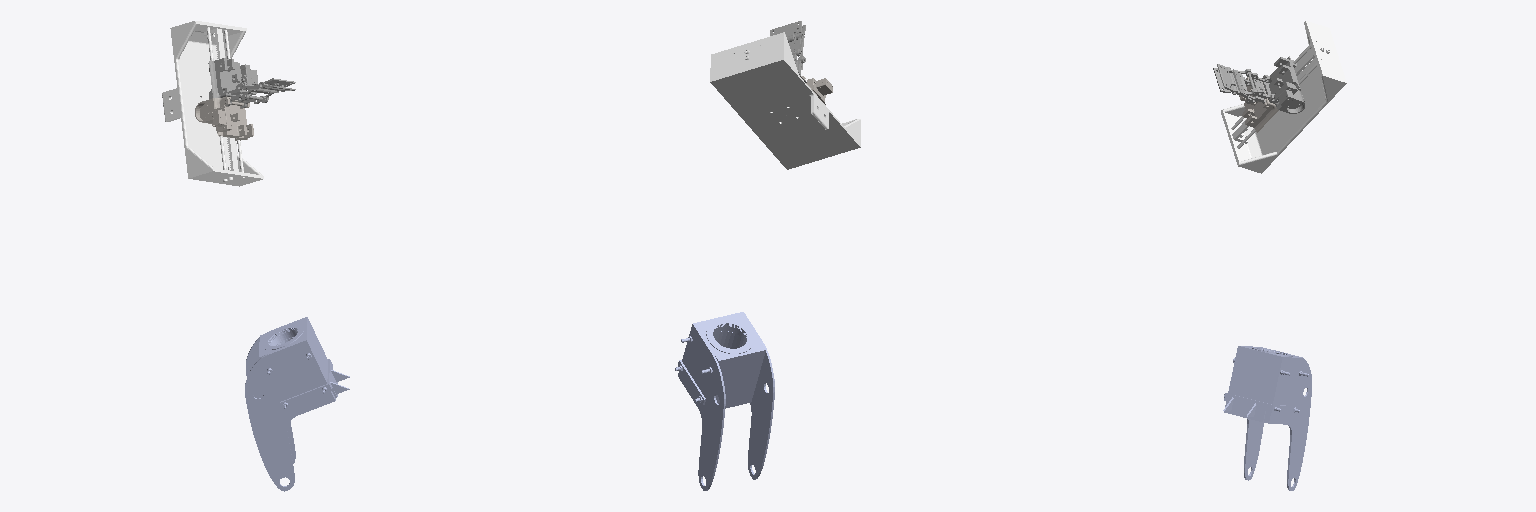
robot.urdf — arm_gripper_urdf:
<?xml version="1.0" encoding="utf-8"?>
<!-- This URDF was automatically created by SolidWorks to URDF Exporter! Originally created by Stephen Brawner (brawner@gmail.com) 
     Commit Version: 1.6.0-4-g7f85cfe  Build Version: 1.6.7995.38578
     For more information, please see http://wiki.ros.org/sw_urdf_exporter -->
<robot
  name="arm_gripper_urdf">
  <link
    name="base_link">
    <inertial>
      <origin
        xyz="0.0603212602811141 0.0650115074142707 0.02162446729854"
        rpy="0 0 0" />
      <mass
        value="0.50142029465297" />
      <inertia
        ixx="0.000319514636903112"
        ixy="-7.87438279933821E-08"
        ixz="-3.28639901204E-07"
        iyy="0.000333118854517782"
        iyz="-1.2582250163801E-08"
        izz="0.000510935815274996" />
    </inertial>
    <visual>
      <origin
        xyz="0 0 0"
        rpy="0 0 0" />
      <geometry>
        <mesh
          filename="package://arm_gripper_urdf/meshes/base_link.STL" />
      </geometry>
      <material
        name="">
        <color
          rgba="0.792156862745098 0.819607843137255 0.933333333333333 1" />
      </material>
    </visual>
    <collision>
      <origin
        xyz="0 0 0"
        rpy="0 0 0" />
      <geometry>
        <mesh
          filename="package://arm_gripper_urdf/meshes/base_link.STL" />
      </geometry>
    </collision>
  </link>
  <link
    name="zaxis">
    <inertial>
      <origin
        xyz="-0.00716005792070847 0.00404721155954859 0.0365015581064805"
        rpy="0 0 0" />
      <mass
        value="1.33461322322797" />
      <inertia
        ixx="0.00294407502659064"
        ixy="7.60099411489531E-05"
        ixz="1.20714449731523E-05"
        iyy="0.00302546474877606"
        iyz="-7.39450020622318E-06"
        izz="0.00523883860594506" />
    </inertial>
    <visual>
      <origin
        xyz="0 0 0"
        rpy="0 0 0" />
      <geometry>
        <mesh
          filename="package://arm_gripper_urdf/meshes/zaxis.STL" />
      </geometry>
      <material
        name="">
        <color
          rgba="0.792156862745098 0.819607843137255 0.933333333333333 1" />
      </material>
    </visual>
    <collision>
      <origin
        xyz="0 0 0"
        rpy="0 0 0" />
      <geometry>
        <mesh
          filename="package://arm_gripper_urdf/meshes/zaxis.STL" />
      </geometry>
    </collision>
  </link>
  <joint
    name="z_axis"
    type="revolute">
    <origin
      xyz="0.0211020680489503 0.0649999999999998 0.0950000000000002"
      rpy="0 0 0" />
    <parent
      link="base_link" />
    <child
      link="zaxis" />
    <axis
      xyz="0 0 1" />
    <limit
      lower="0"
      upper="6.24"
      effort="0"
      velocity="0" />
  </joint>
  <link
    name="link1">
    <inertial>
      <origin
        xyz="0.0342960393506419 0.0650866615949618 0.260139710834608"
        rpy="0 0 0" />
      <mass
        value="0.471717784430801" />
      <inertia
        ixx="0.0048215045864105"
        ixy="-2.95077784158004E-09"
        ixz="-0.000442320588912317"
        iyy="0.00469876738868576"
        iyz="-1.91396301469037E-09"
        izz="0.000540612480368946" />
    </inertial>
    <visual>
      <origin
        xyz="0 0 0"
        rpy="0 0 0" />
      <geometry>
        <mesh
          filename="package://arm_gripper_urdf/meshes/link1.STL" />
      </geometry>
      <material
        name="">
        <color
          rgba="0.792156862745098 0.819607843137255 0.933333333333333 1" />
      </material>
    </visual>
    <collision>
      <origin
        xyz="0 0 0"
        rpy="0 0 0" />
      <geometry>
        <mesh
          filename="package://arm_gripper_urdf/meshes/link1.STL" />
      </geometry>
    </collision>
  </link>
  <joint
    name="link_1"
    type="revolute">
    <origin
      xyz="0.0717427736589908 -0.118676975137196 0.0429999999999999"
      rpy="0 0 -0.539222444193772" />
    <parent
      link="zaxis" />
    <child
      link="link1" />
    <axis
      xyz="0 1 0" />
    <limit
      lower="0.52"
      upper="2.2"
      effort="0"
      velocity="0" />
  </joint>
  <link
    name="link2">
    <inertial>
      <origin
        xyz="-0.0111842896220878 0.0390244957145194 0.0568810553641114"
        rpy="0 0 0" />
      <mass
        value="0.56505728937743" />
      <inertia
        ixx="0.000736827471110781"
        ixy="-1.02697637259464E-10"
        ixz="5.1414535348473E-05"
        iyy="0.00112037157600434"
        iyz="5.72166182908804E-12"
        izz="0.00102896352167454" />
    </inertial>
    <visual>
      <origin
        xyz="0 0 0"
        rpy="0 0 0" />
      <geometry>
        <mesh
          filename="package://arm_gripper_urdf/meshes/link2.STL" />
      </geometry>
      <material
        name="">
        <color
          rgba="0.792156862745098 0.819607843137255 0.933333333333333 1" />
      </material>
    </visual>
    <collision>
      <origin
        xyz="0 0 0"
        rpy="0 0 0" />
      <geometry>
        <mesh
          filename="package://arm_gripper_urdf/meshes/link2.STL" />
      </geometry>
    </collision>
  </link>
  <joint
    name="link_2"
    type="revolute">
    <origin
      xyz="0.0463762994663664 0.0259999999999979 0.447603886095535"
      rpy="0 0.103241752091021 0" />
    <parent
      link="link1" />
    <child
      link="link2" />
    <axis
      xyz="0 -1 0" />
    <limit
      lower="-1"
      upper="1"
      effort="0"
      velocity="0" />
  </joint>
  <link
    name="link3">
    <inertial>
      <origin
        xyz="-0.15229382933397 0.000156854221345315 0.00310777146765556"
        rpy="0 0 0" />
      <mass
        value="0.878471466072429" />
      <inertia
        ixx="0.000362156422178765"
        ixy="-3.12472541195768E-11"
        ixz="-2.12308143553033E-07"
        iyy="0.00439952004825401"
        iyz="-3.79063978101467E-08"
        izz="0.00435043337988437" />
    </inertial>
    <visual>
      <origin
        xyz="0 0 0"
        rpy="0 0 0" />
      <geometry>
        <mesh
          filename="package://arm_gripper_urdf/meshes/link3.STL" />
      </geometry>
      <material
        name="">
        <color
          rgba="0.792156862745098 0.819607843137255 0.933333333333333 1" />
      </material>
    </visual>
    <collision>
      <origin
        xyz="0 0 0"
        rpy="0 0 0" />
      <geometry>
        <mesh
          filename="package://arm_gripper_urdf/meshes/link3.STL" />
      </geometry>
    </collision>
  </link>
  <joint
    name="link_3"
    type="revolute">
    <origin
      xyz="0.067242668214866 0.0390000000000044 0.0871856567347071"
      rpy="0.468343930204125 -0.299928960515459 0" />
    <parent
      link="link2" />
    <child
      link="link3" />
    <axis
      xyz="-1 0 0" />
    <limit
      lower="0"
      upper="6.28"
      effort="0"
      velocity="0" />
  </joint>
  <link
    name="wrist1">
    <inertial>
      <origin
        xyz="-0.00151017412525437 0.0524789597245494 0.0116604873944556"
        rpy="0 0 0" />
      <mass
        value="0.148650042219505" />
      <inertia
        ixx="3.34444822230191E-05"
        ixy="5.00779885062825E-10"
        ixz="8.60606304733012E-07"
        iyy="3.64087946207514E-05"
        iyz="-5.3279704581146E-10"
        izz="2.6910358122397E-05" />
    </inertial>
    <visual>
      <origin
        xyz="0 0 0"
        rpy="0 0 0" />
      <geometry>
        <mesh
          filename="package://arm_gripper_urdf/meshes/wrist1.STL" />
      </geometry>
      <material
        name="">
        <color
          rgba="0.792156862745098 0.819607843137255 0.933333333333333 1" />
      </material>
    </visual>
    <collision>
      <origin
        xyz="0 0 0"
        rpy="0 0 0" />
      <geometry>
        <mesh
          filename="package://arm_gripper_urdf/meshes/wrist1.STL" />
      </geometry>
    </collision>
  </link>
  <joint
    name="wrist_1"
    type="revolute">
    <origin
      xyz="-0.544000000000017 -0.0524800000000021 0"
      rpy="0 0 0" />
    <parent
      link="link3" />
    <child
      link="wrist1" />
    <axis
      xyz="0 1 0" />
    <limit
      lower="-1.57"
      upper="1.57"
      effort="0"
      velocity="0" />
  </joint>
  <link
    name="gripper-base">
    <inertial>
      <origin
        xyz="3.49703257014611E-05 -0.0166081836484884 0.00245791883868079"
        rpy="0 0 0" />
      <mass
        value="0.413549848316491" />
      <inertia
        ixx="0.000518022183409299"
        ixy="-2.99453705129393E-07"
        ixz="-6.16065422654147E-07"
        iyy="0.00324028081480373"
        iyz="-1.37365900028011E-05"
        izz="0.00283649097301424" />
    </inertial>
    <visual>
      <origin
        xyz="0 0 0"
        rpy="0 0 0" />
      <geometry>
        <mesh
          filename="package://arm_gripper_urdf/meshes/gripper-base.STL" />
      </geometry>
      <material
        name="">
        <color
          rgba="1 1 1 0.25" />
      </material>
    </visual>
    <collision>
      <origin
        xyz="0 0 0"
        rpy="0 0 0" />
      <geometry>
        <mesh
          filename="package://arm_gripper_urdf/meshes/gripper-base.STL" />
      </geometry>
    </collision>
  </link>
  <joint
    name="gripper-wrist"
    type="continuous">
    <origin
      xyz="-0.00704202903975437 0.0524785020943702 0.0543441409794076"
      rpy="-1.65253448174348 0.0997346165681447 2.45313293712552" />
    <parent
      link="wrist1" />
    <child
      link="gripper-base" />
    <axis
      xyz="0 -1 0" />
  </joint>
  <link
    name="claw1">
    <inertial>
      <origin
        xyz="0.02549326292166 -0.0438997271227292 -0.00962893950260642"
        rpy="0 0 0" />
      <mass
        value="0.0969827563371482" />
      <inertia
        ixx="1.81542355458617E-05"
        ixy="-3.4227080855438E-07"
        ixz="-1.12963395426777E-06"
        iyy="3.24587841714838E-05"
        iyz="2.45205523852197E-08"
        izz="2.18715307415096E-05" />
    </inertial>
    <visual>
      <origin
        xyz="0 0 0"
        rpy="0 0 0" />
      <geometry>
        <mesh
          filename="package://arm_gripper_urdf/meshes/claw1.STL" />
      </geometry>
      <material
        name="">
        <color
          rgba="0.698039215686274 0.698039215686274 0.698039215686274 1" />
      </material>
    </visual>
    <collision>
      <origin
        xyz="0 0 0"
        rpy="0 0 0" />
      <geometry>
        <mesh
          filename="package://arm_gripper_urdf/meshes/claw1.STL" />
      </geometry>
    </collision>
  </link>
  <joint
    name="claw1-slide"
    type="prismatic">
    <origin
      xyz="0 0 0"
      rpy="0 0 0" />
    <parent
      link="gripper-base" />
    <child
      link="claw1" />
    <axis
      xyz="1 0 0" />
    <limit
      lower="-0.053"
      upper="0.053"
      effort="0"
      velocity="0" />
  </joint>
  <link
    name="finger1">
    <inertial>
      <origin
        xyz="-0.00709221732505511 -0.0522490411599353 0.000137460998135976"
        rpy="0 0 0" />
      <mass
        value="0.0165732372278614" />
      <inertia
        ixx="5.35494385454589E-06"
        ixy="-2.42629156140275E-07"
        ixz="-4.65175481726915E-09"
        iyy="4.13132761397344E-06"
        iyz="-1.31654832542712E-08"
        izz="1.59037915575076E-06" />
    </inertial>
    <visual>
      <origin
        xyz="0 0 0"
        rpy="0 0 0" />
      <geometry>
        <mesh
          filename="package://arm_gripper_urdf/meshes/finger1.STL" />
      </geometry>
      <material
        name="">
        <color
          rgba="0.698039215686274 0.698039215686274 0.698039215686274 1" />
      </material>
    </visual>
    <collision>
      <origin
        xyz="0 0 0"
        rpy="0 0 0" />
      <geometry>
        <mesh
          filename="package://arm_gripper_urdf/meshes/finger1.STL" />
      </geometry>
    </collision>
  </link>
  <joint
    name="finger1-rotate"
    type="revolute">
    <origin
      xyz="0.0086586 -0.060063 0.0013876"
      rpy="0 0 0" />
    <parent
      link="claw1" />
    <child
      link="finger1" />
    <axis
      xyz="0 0 1" />
    <limit
      lower="0"
      upper="0.769"
      effort="0"
      velocity="0" />
  </joint>
  <link
    name="claw2">
    <inertial>
      <origin
        xyz="-0.0252889521008238 -0.0441107341461657 0.0109916971832964"
        rpy="0 0 0" />
      <mass
        value="0.0983378412337925" />
      <inertia
        ixx="1.8458831390781E-05"
        ixy="3.42267710596492E-07"
        ixz="-1.12964259635216E-06"
        iyy="3.27633747747371E-05"
        iyz="-2.45175752188469E-08"
        izz="2.18756138577448E-05" />
    </inertial>
    <visual>
      <origin
        xyz="0 0 0"
        rpy="0 0 0" />
      <geometry>
        <mesh
          filename="package://arm_gripper_urdf/meshes/claw2.STL" />
      </geometry>
      <material
        name="">
        <color
          rgba="0.776470588235294 0.756862745098039 0.737254901960784 1" />
      </material>
    </visual>
    <collision>
      <origin
        xyz="0 0 0"
        rpy="0 0 0" />
      <geometry>
        <mesh
          filename="package://arm_gripper_urdf/meshes/claw2.STL" />
      </geometry>
    </collision>
  </link>
  <joint
    name="claw2-slide"
    type="prismatic">
    <origin
      xyz="0 0 0"
      rpy="0 0 0" />
    <parent
      link="gripper-base" />
    <child
      link="claw2" />
    <axis
      xyz="1 0 0" />
    <limit
      lower="-0.053"
      upper="0.053"
      effort="0"
      velocity="0" />
  </joint>
  <link
    name="finger2">
    <inertial>
      <origin
        xyz="0.0066304555915801 -0.0523726517355783 -5.96001071877066E-05"
        rpy="0 0 0" />
      <mass
        value="0.0165732374112398" />
      <inertia
        ixx="5.39025640808696E-06"
        ixy="1.93164512321618E-07"
        ixz="-2.33368356203983E-09"
        iyy="4.09601481363207E-06"
        iyz="1.38478243688029E-08"
        izz="1.59037914292937E-06" />
    </inertial>
    <visual>
      <origin
        xyz="0 0 0"
        rpy="0 0 0" />
      <geometry>
        <mesh
          filename="package://arm_gripper_urdf/meshes/finger2.STL" />
      </geometry>
      <material
        name="">
        <color
          rgba="0.698039215686274 0.698039215686274 0.698039215686274 1" />
      </material>
    </visual>
    <collision>
      <origin
        xyz="0 0 0"
        rpy="0 0 0" />
      <geometry>
        <mesh
          filename="package://arm_gripper_urdf/meshes/finger2.STL" />
      </geometry>
    </collision>
  </link>
  <joint
    name="finger2-rotate"
    type="revolute">
    <origin
      xyz="-0.0086586 -0.060063 0.00010471"
      rpy="0 0 0" />
    <parent
      link="claw2" />
    <child
      link="finger2" />
    <axis
      xyz="0 0 -1" />
    <limit
      lower="0"
      upper="0.769"
      effort="0"
      velocity="0" />
  </joint>
</robot>

--- Facts derived from the render (not from the file) ---
The picture shows the robot from 3 angles, left to right: view 1: azimuth 30°, elevation 25°; view 2: azimuth 150°, elevation 25°; view 3: azimuth 270°, elevation 25°; orthographic projection.
Model arm_gripper_urdf with 11 links and 10 joints (7 revolute, 1 continuous, 2 prismatic), rooted at base_link, posed joints at zero except 1 at the middle of their limits (link_1 = 1.36).
Visible links, largest first — view 1: link2, gripper-base, claw2, claw1, finger2; view 2: gripper-base, link2; view 3: link2, gripper-base, claw1, claw2, finger1, finger2.
Boxes of the visible links, bbox=[...] form: link2: bbox=[245, 317, 349, 491]; gripper-base: bbox=[162, 21, 263, 186]; claw2: bbox=[195, 96, 253, 140]; claw1: bbox=[208, 58, 257, 98]; finger2: bbox=[226, 78, 295, 107]; gripper-base: bbox=[710, 32, 860, 169]; link2: bbox=[675, 312, 774, 490]; link2: bbox=[1223, 346, 1311, 490]; gripper-base: bbox=[1221, 21, 1346, 173]; claw1: bbox=[1262, 56, 1304, 113]; claw2: bbox=[1239, 77, 1278, 132]; finger1: bbox=[1213, 67, 1274, 98]; finger2: bbox=[1217, 64, 1265, 103].
Bounding box of the posed robot: 0.2842 × 0.2155 × 0.7676 m (x, y, z).
Meshes: 11 distinct files referenced, 6 mesh visuals loaded (6 binary STL); not drawn: 5 (reference not matched to a file when rendering).
